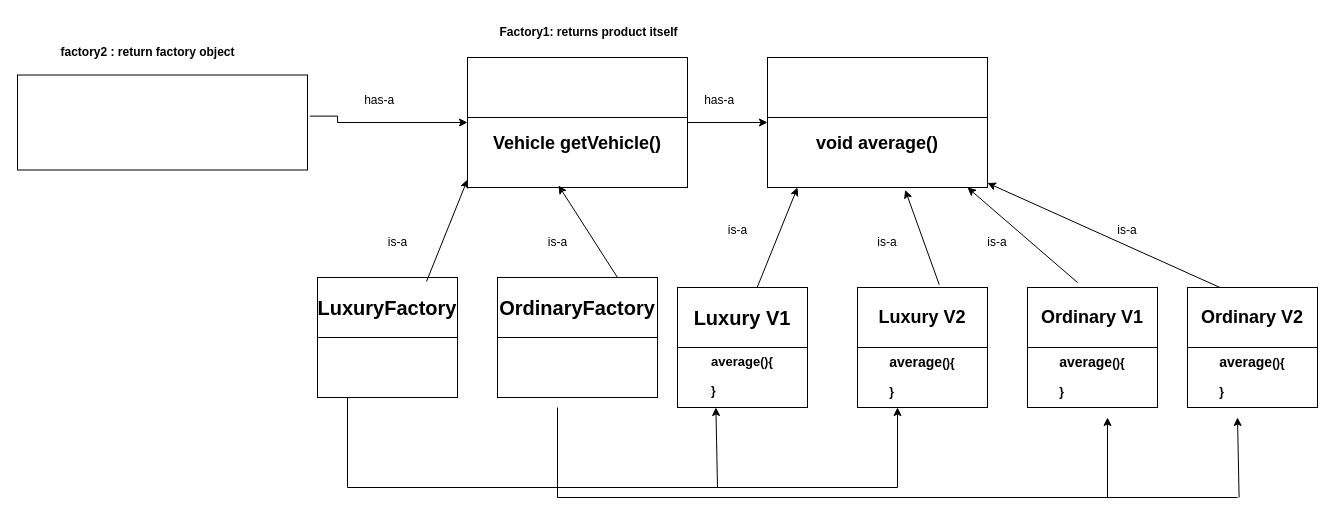
Some shapes in this 1335 by 523 pixel diagram are drawn without their labels. Here are the shapes that lost their labels. From the top down, the centre of each, then its label:
At (577,87): "VehicleFactory".
At (877,87): "Vehicle<<Interface>>".
At (162,122): "VehicleFactory getFactory(){ }".
